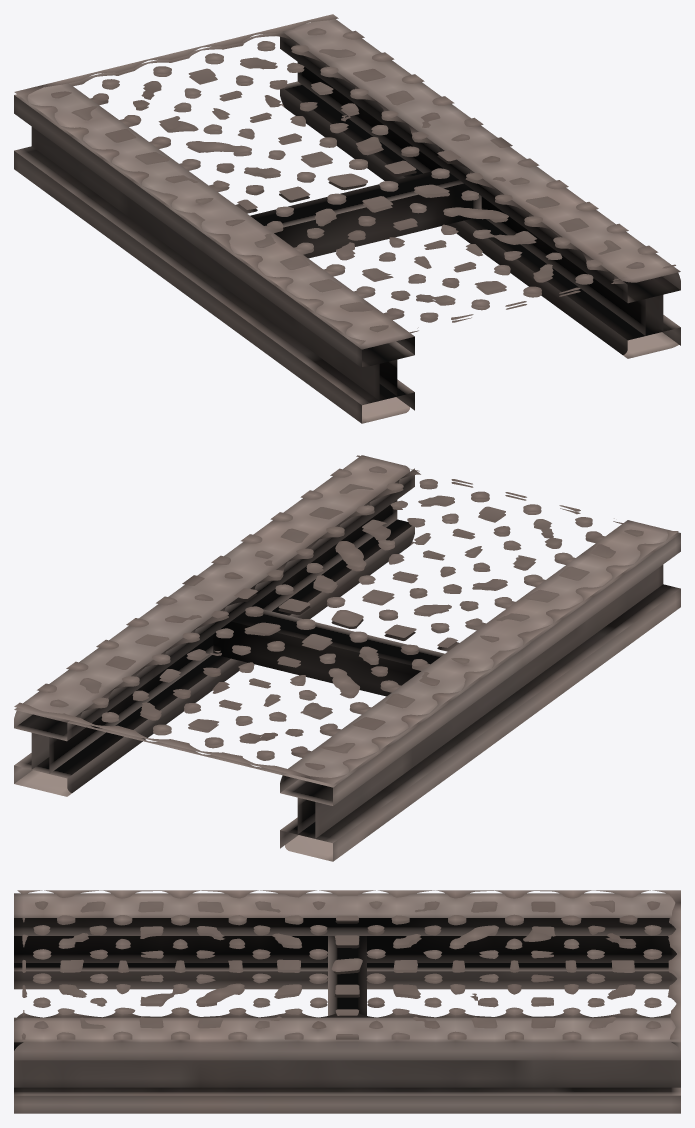
The model's file is evacuate_walkway.obj.
The picture shows the model from 3 angles, top to bottom: view 1: azimuth 30°, elevation 25°; view 2: azimuth 150°, elevation 25°; view 3: azimuth 270°, elevation 25°; orthographic projection. The views are drawn at different scales.
Parts seen in each view (by area): view 1: evacuate_walkway, evacuate_walkway_overlay_patch; view 2: evacuate_walkway, evacuate_walkway_overlay_patch; view 3: evacuate_walkway, evacuate_walkway_overlay_patch.
Part boxes in pixels (box(x1,y1,x2,y2)): evacuate_walkway: box(14, 19, 680, 423); evacuate_walkway_overlay_patch: box(14, 14, 675, 345); evacuate_walkway: box(14, 455, 680, 861); evacuate_walkway_overlay_patch: box(14, 455, 678, 784); evacuate_walkway: box(14, 893, 680, 1113); evacuate_walkway_overlay_patch: box(17, 890, 680, 1039).
Bounding box in the file's own units: 0.5625 × 0.13 × 1.06.
Materials: 2 (2 with a texture image).
